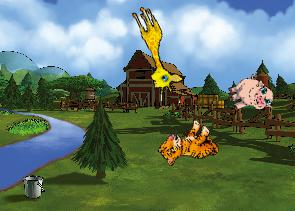giraffe: (120, 3, 186, 97)
pig: (224, 70, 276, 120)
tiger: (154, 112, 224, 181)
